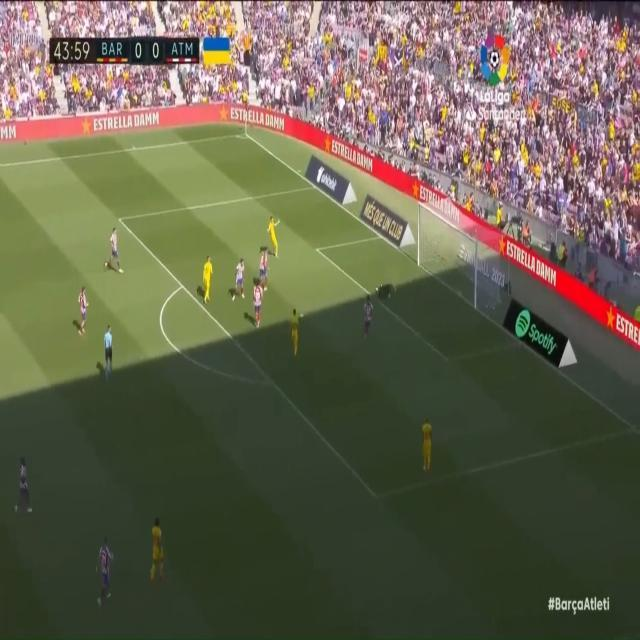goalkeeper: (373, 276, 402, 308)
player: (143, 515, 170, 586), (93, 538, 118, 602), (10, 456, 33, 524), (105, 220, 127, 276), (420, 417, 435, 488), (287, 305, 305, 361), (359, 292, 378, 343), (268, 210, 286, 261), (78, 277, 90, 339), (251, 277, 265, 330), (202, 250, 213, 307), (236, 260, 249, 296), (259, 252, 271, 285)
referee: (100, 318, 117, 382)
